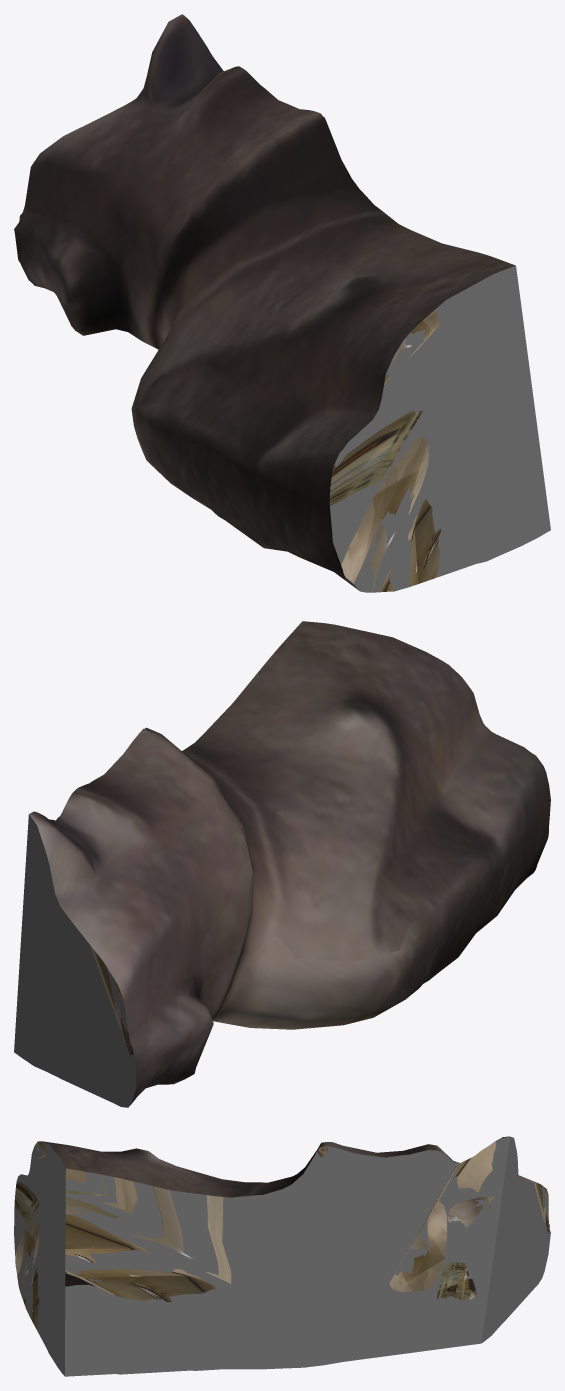
Rendered from fragment4.obj.
The picture shows the model from 3 angles, top to bottom: view 1: azimuth 30°, elevation 25°; view 2: azimuth 150°, elevation 25°; view 3: azimuth 270°, elevation 25°; orthographic projection. The views are drawn at different scales.
Visible parts, largest first — view 1: sculpt_cell.004; view 2: sculpt_cell.004; view 3: sculpt_cell.004.
Boxes of the visible parts, <box> form: sculpt_cell.004: <box>14,14,550,592</box>; sculpt_cell.004: <box>14,621,550,1107</box>; sculpt_cell.004: <box>14,1136,550,1376</box>.
Size of the model in its own units: 4.28 by 4.59 by 9.99.
Materials: 1 (1 with a texture image).
